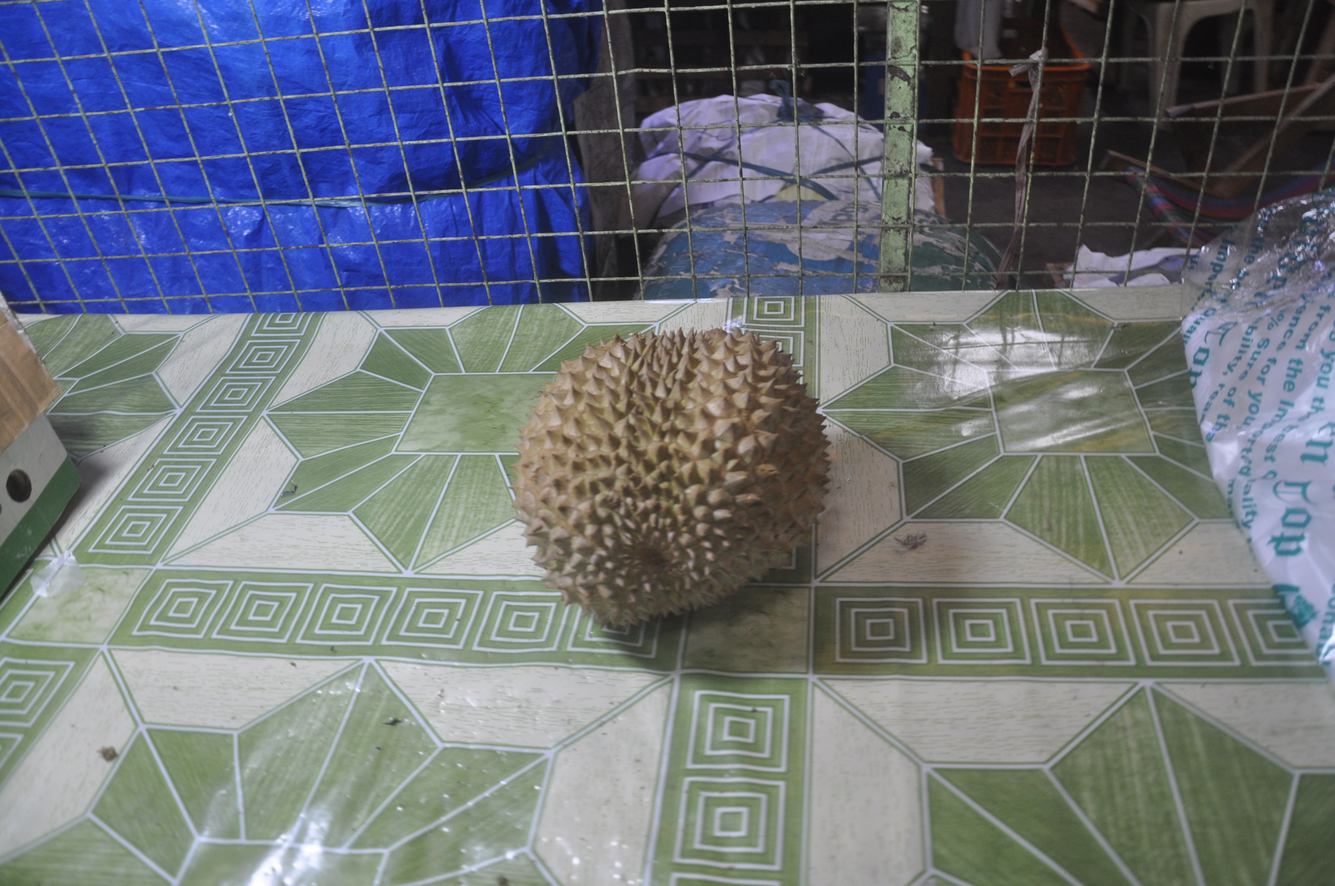mature: (514, 329, 830, 630)
